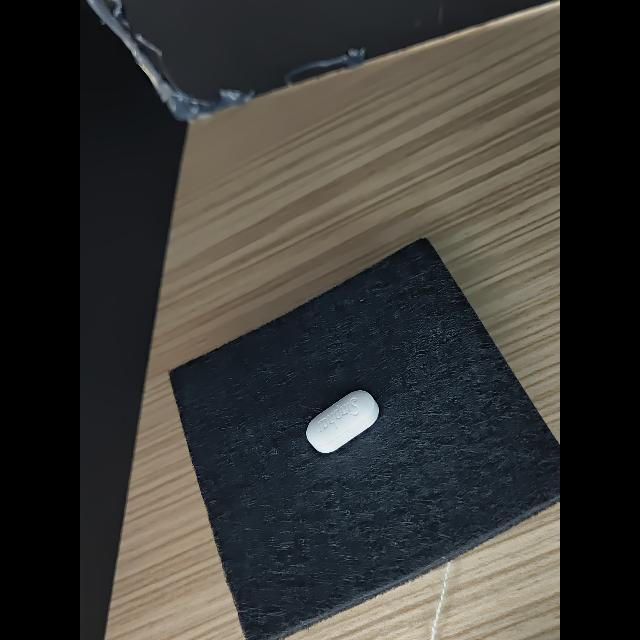Intact Pill: (306, 390, 379, 453)
